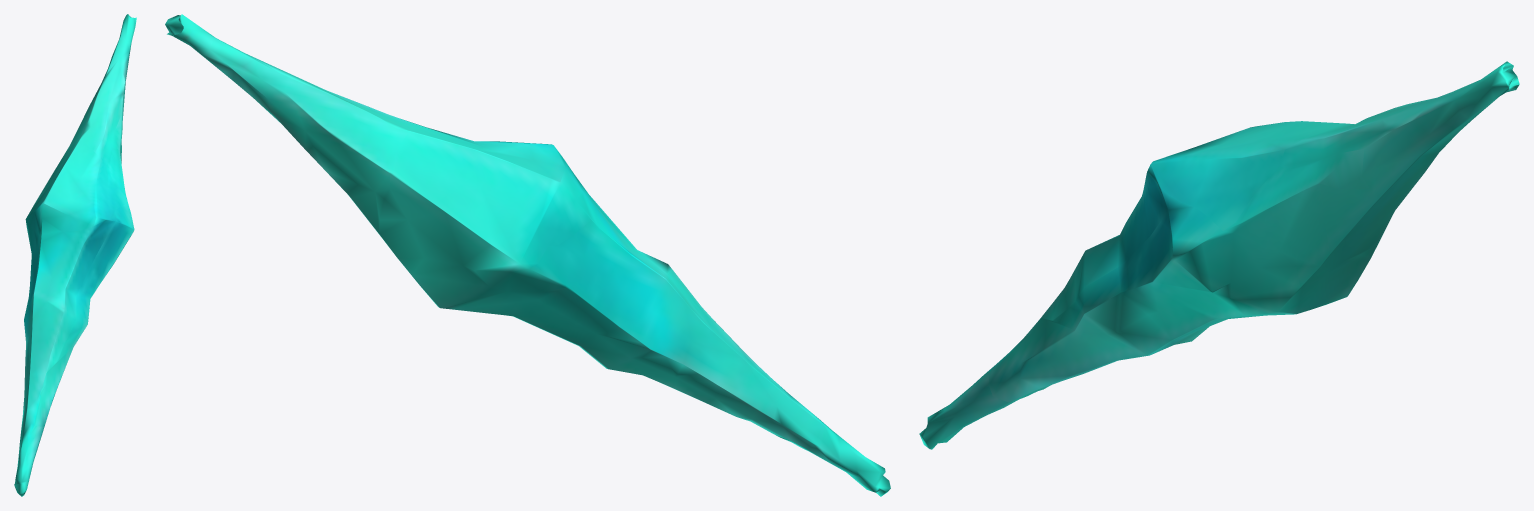
Rendered from 霜锁单晶.glb.
3 renders of one model, left to right at view 1: azimuth 30°, elevation 25°; view 2: azimuth 150°, elevation 25°; view 3: azimuth 270°, elevation 25°, orthographic. The views are drawn at different scales.
Visible parts, largest first — view 1: 霜锁单晶; view 2: 霜锁单晶; view 3: 霜锁单晶.
Boxes of the visible parts, x1=… form: 霜锁单晶: x1=14, y1=14, x2=136, y2=496; 霜锁单晶: x1=165, y1=14, x2=890, y2=496; 霜锁单晶: x1=919, y1=61, x2=1519, y2=449.
Bounding box in the file's own units: 0.1594 × 0.1833 × 0.1576.
1 material, 1 textured.
